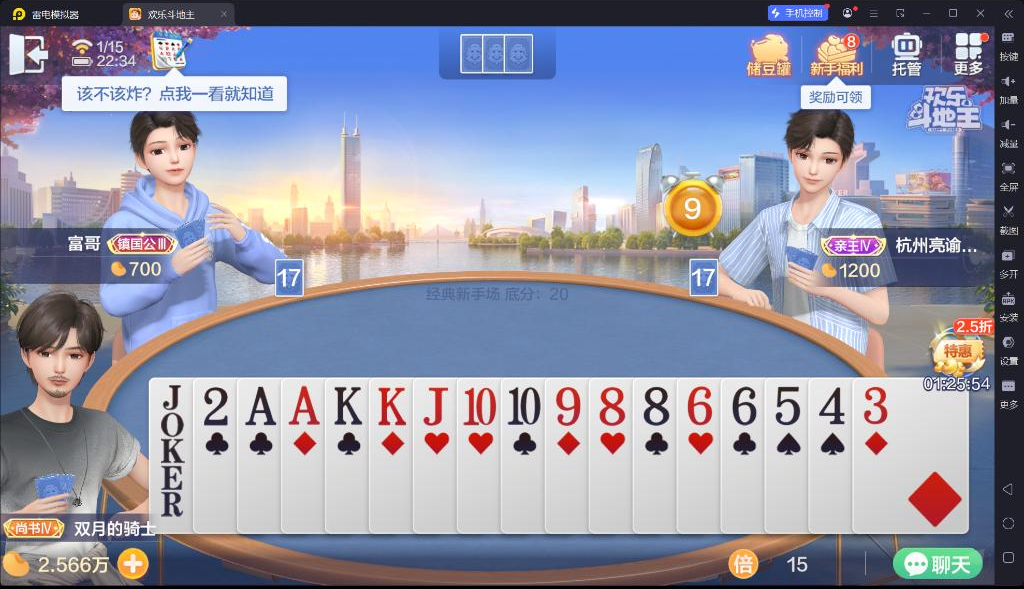A: (286, 383, 322, 429), (243, 384, 277, 428)
J: (420, 385, 451, 428)
K: (330, 383, 366, 427), (374, 383, 410, 427)
eight: (594, 382, 628, 428), (638, 383, 671, 429)
five: (771, 383, 804, 427)
four: (816, 383, 848, 427)
joker: (158, 380, 186, 470)
nine: (550, 382, 584, 428)
six: (682, 383, 716, 427), (727, 383, 761, 427)
ten: (461, 382, 499, 428), (504, 382, 541, 428)
three: (860, 383, 890, 427)
two: (201, 384, 232, 428)
